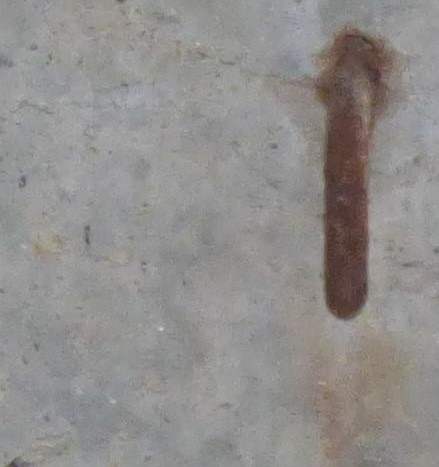Exposed reinforcement: (323, 52, 377, 321)
